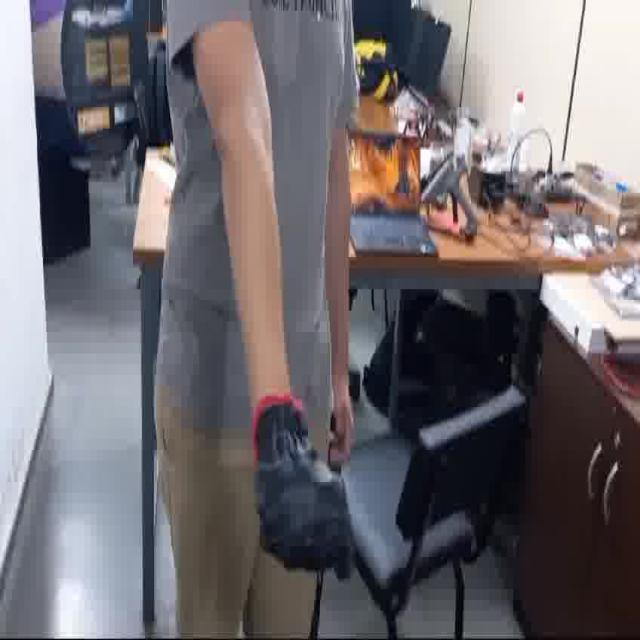Gloves: (252, 393, 354, 581)
